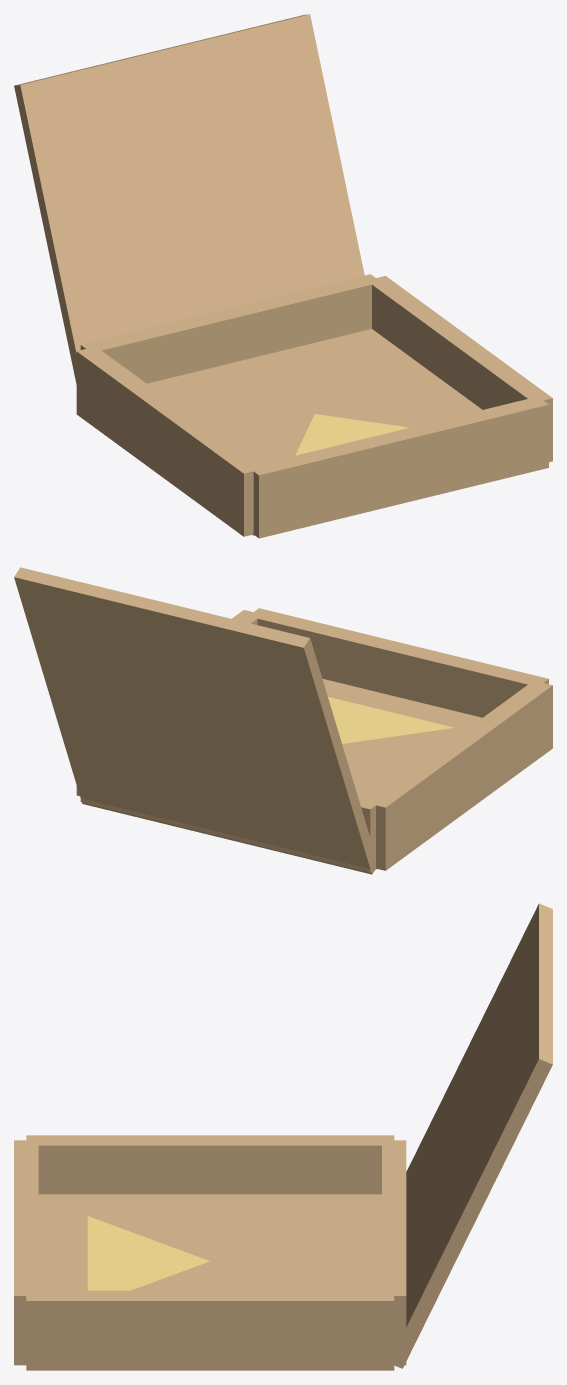
The model's file is Basura_Papel_CajaPizza.fbx.
The picture shows the model from 3 angles, top to bottom: view 1: azimuth 30°, elevation 25°; view 2: azimuth 150°, elevation 25°; view 3: azimuth 270°, elevation 25°; orthographic projection. The views are drawn at different scales.
Visible parts, largest first — view 1: Basura_Papel_CajaPizza; view 2: Basura_Papel_CajaPizza; view 3: Basura_Papel_CajaPizza.
Boxes of the visible parts, x1=… form: Basura_Papel_CajaPizza: x1=14, y1=14, x2=552, y2=538; Basura_Papel_CajaPizza: x1=14, y1=567, x2=552, y2=874; Basura_Papel_CajaPizza: x1=14, y1=903, x2=552, y2=1370.
Bounding box in the file's own units: 1.28 × 1.12 × 1.76.
Materials: 1 (1 with a texture image).
